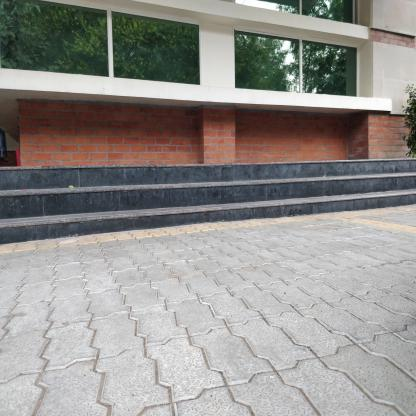stairs: (93, 164, 247, 241)
